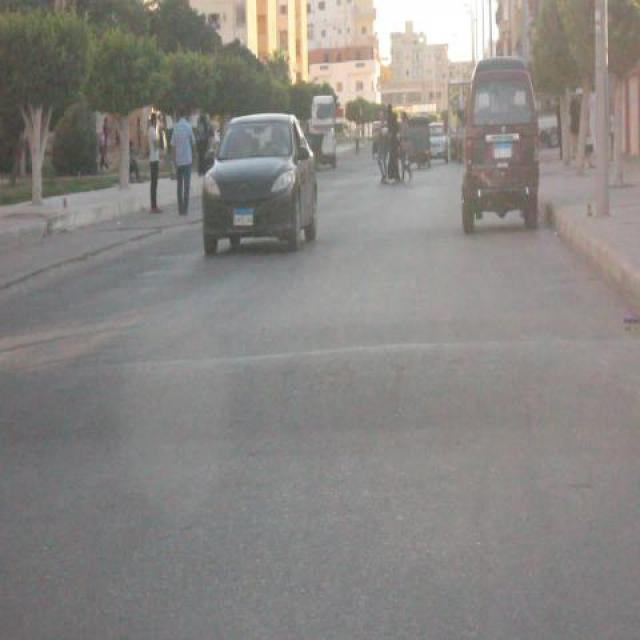Unmarked Bump: (0, 338, 639, 448)
